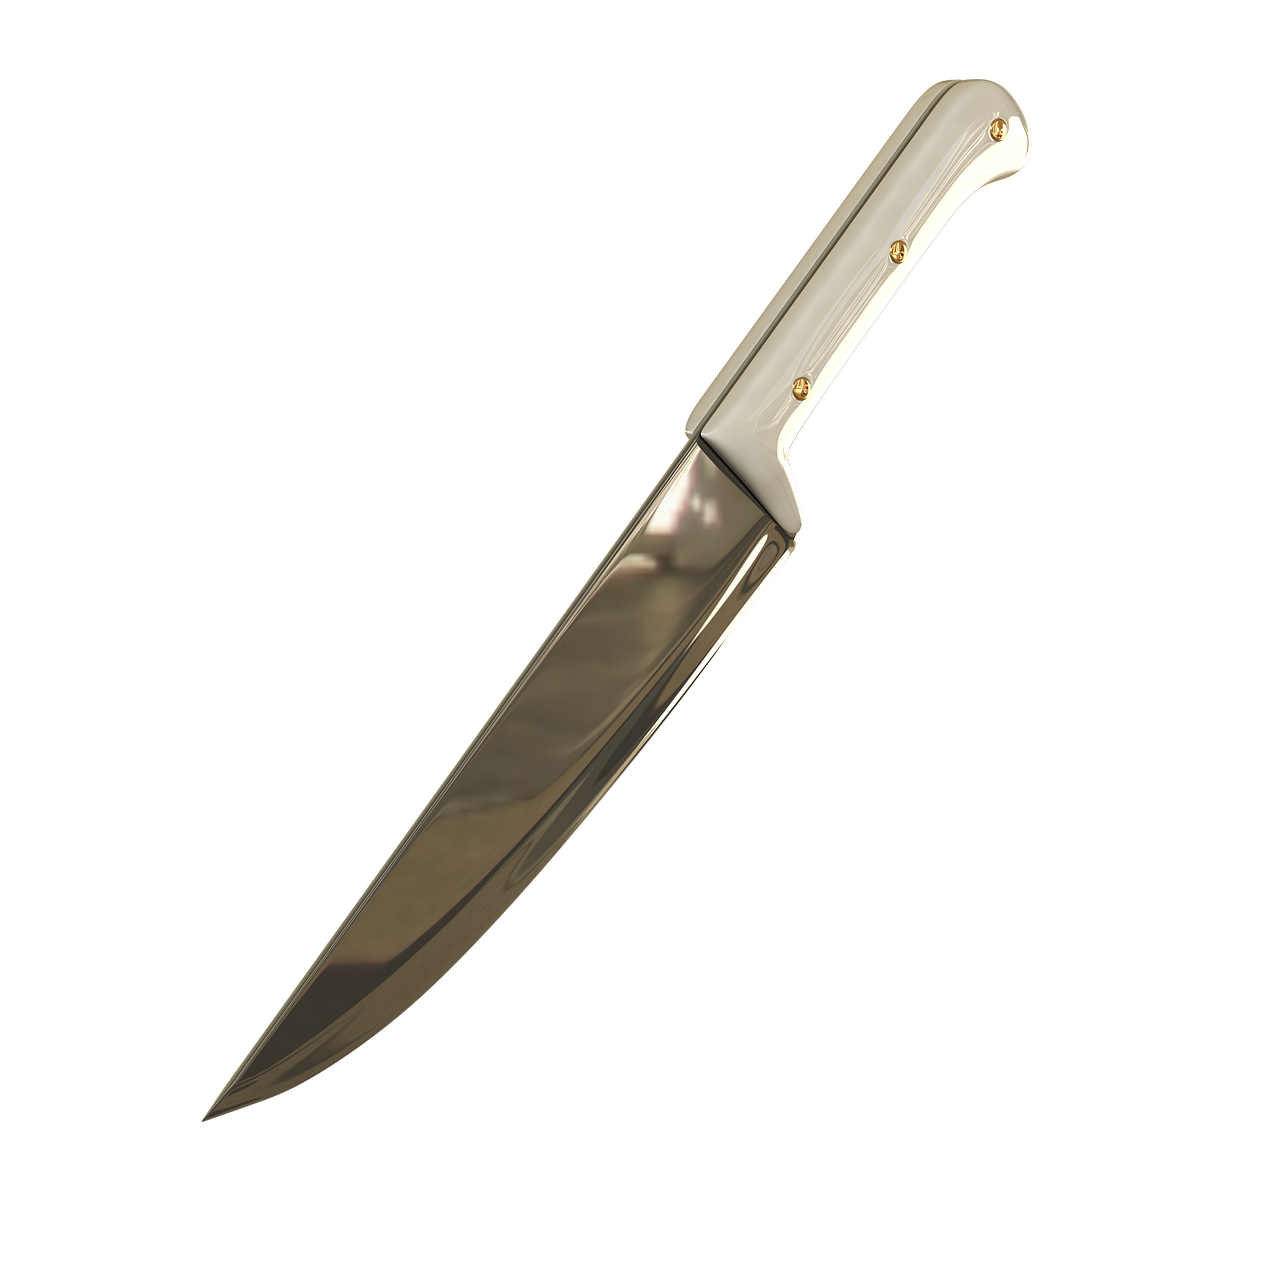knife: (185, 64, 1042, 1139)
